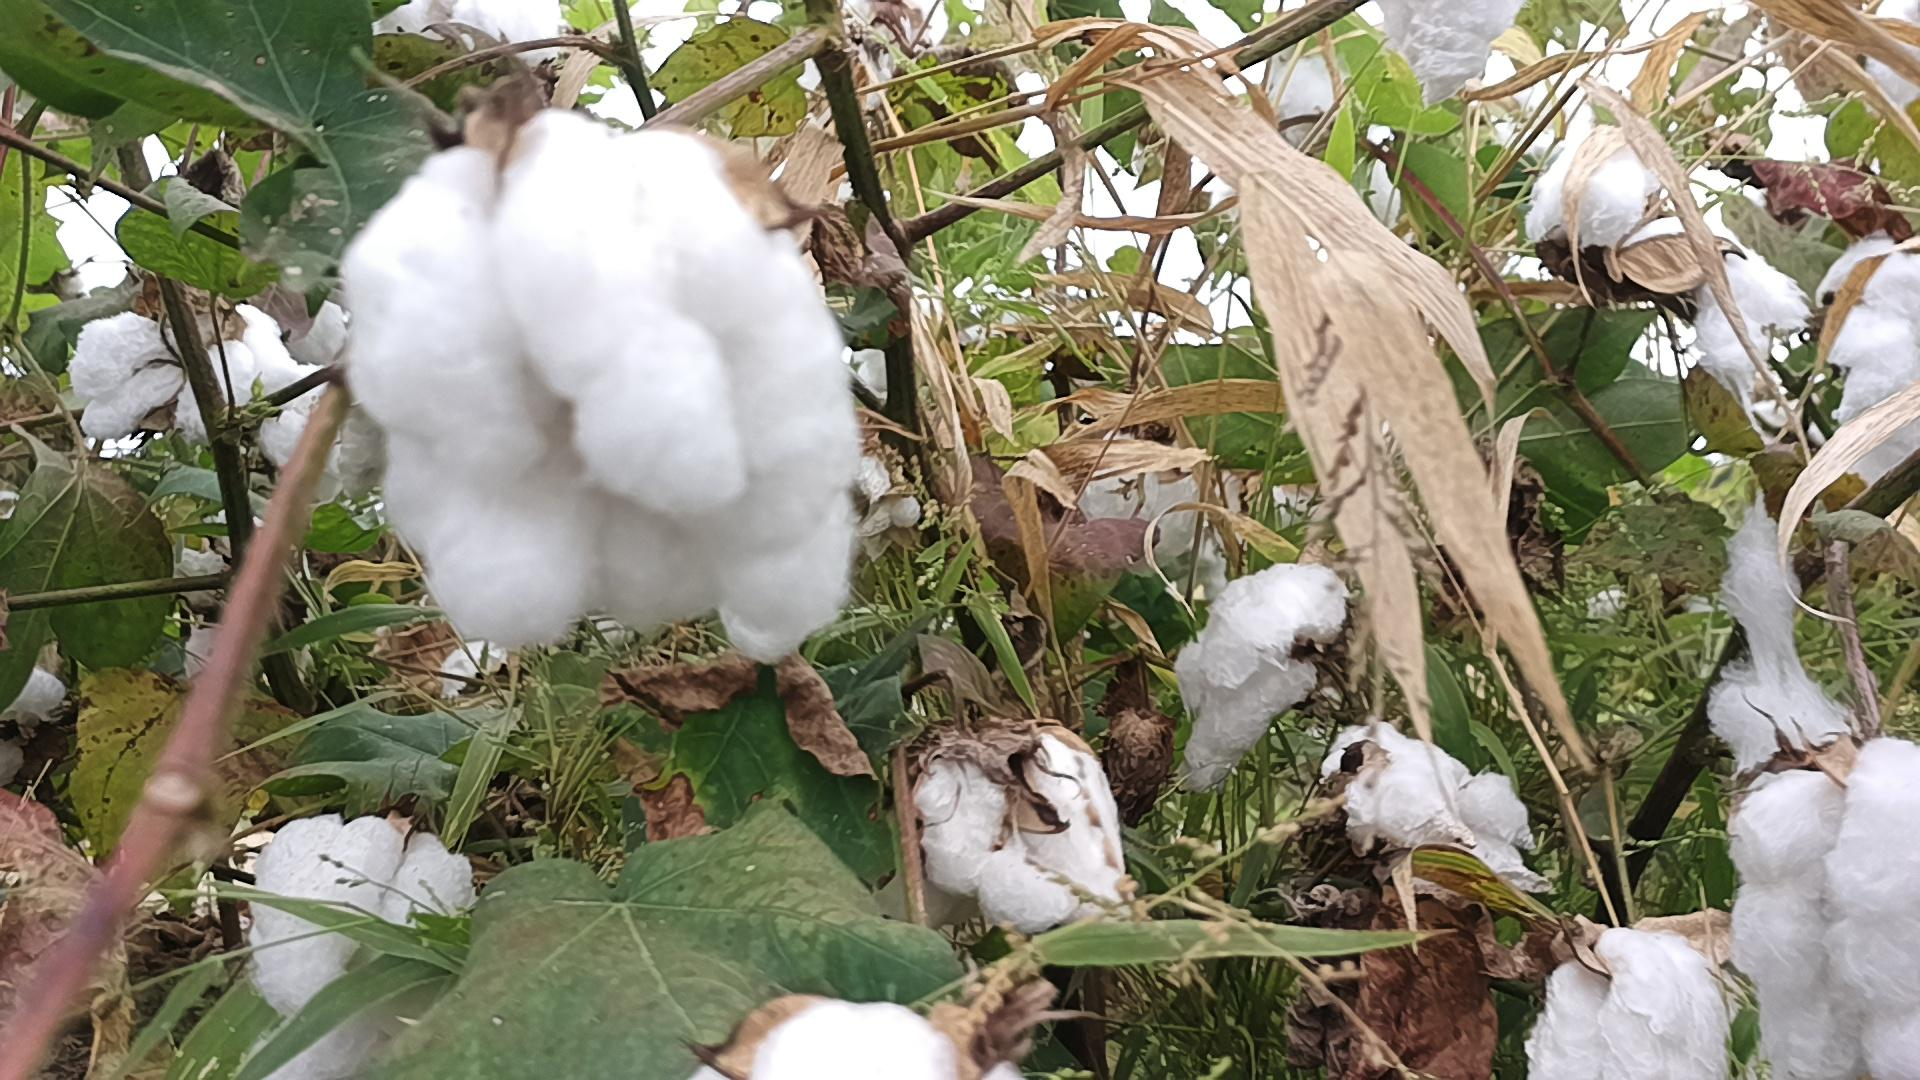cotton_ready: (343, 116, 853, 663), (1733, 736, 1920, 1075), (248, 815, 477, 1009), (1327, 712, 1560, 899), (918, 731, 1127, 927), (1182, 563, 1356, 791), (70, 301, 302, 435), (1531, 934, 1731, 1080), (1821, 236, 1920, 513), (691, 1001, 981, 1080)
